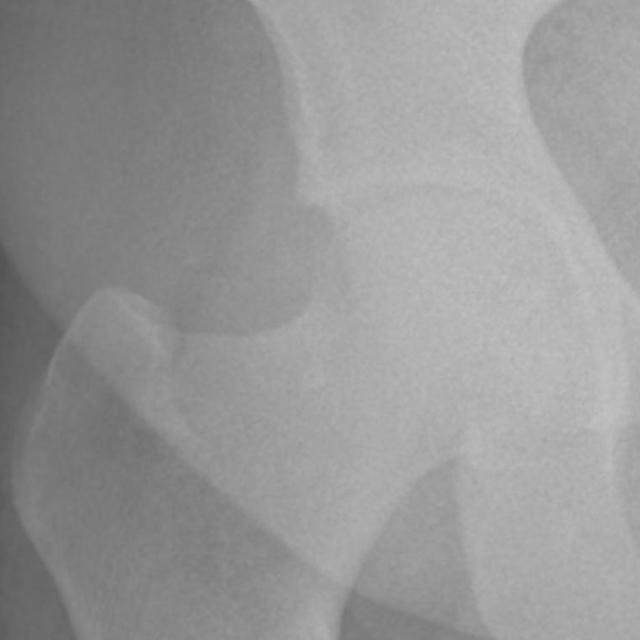Fitted_femural_head: (273, 199, 432, 273)
